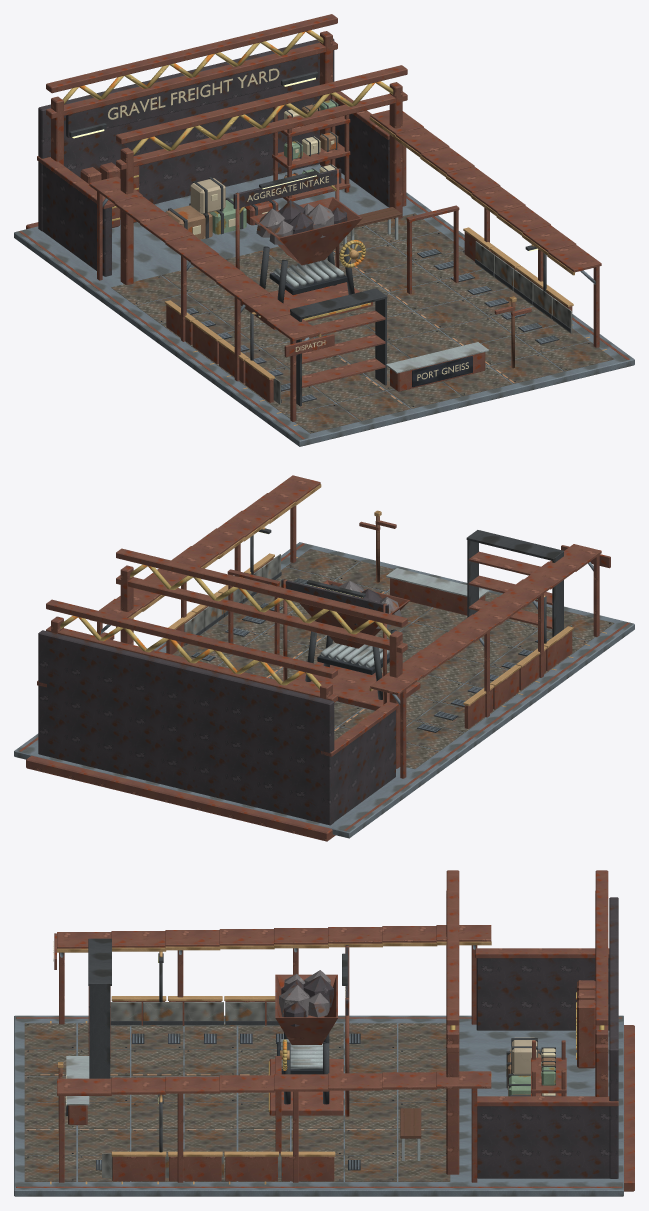
Rendered from scorchmaw-depot.glb.
3 views of the same model, one above another, from view 1: azimuth 30°, elevation 25°; view 2: azimuth 150°, elevation 25°; view 3: azimuth 270°, elevation 25° (orthographic). The views are drawn at different scales.
Parts seen in each view (by area): view 1: scorchmaw-depot; view 2: scorchmaw-depot; view 3: scorchmaw-depot.
Part boxes in pixels (box(x1,y1,x2,y2)): scorchmaw-depot: box(14, 14, 634, 446); scorchmaw-depot: box(14, 475, 634, 841); scorchmaw-depot: box(14, 870, 634, 1196).
Bounding box in the file's own units: 16.9 × 7.63 × 25.34.
Materials: 20 (18 with a texture image).
